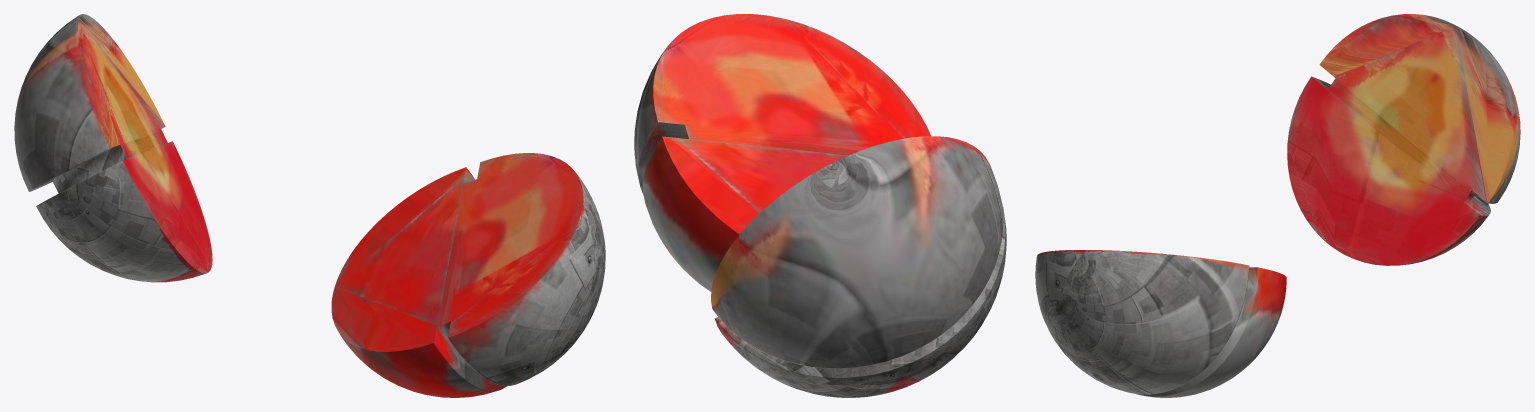
Rendered from Drone166_000010.obj.
The picture shows the model from 3 angles, left to right: view 1: azimuth 30°, elevation 25°; view 2: azimuth 150°, elevation 25°; view 3: azimuth 270°, elevation 25°; orthographic projection. The views are drawn at different scales.
Visible parts, largest first — view 1: Sphere.001_Sphere.005, Sphere.000_Sphere.004; view 2: Sphere.000_Sphere.004, Sphere.001_Sphere.005; view 3: Sphere.000_Sphere.004, Sphere.001_Sphere.005.
Boxes of the visible parts, x1,y1,x2,y2 form: Sphere.001_Sphere.005: (331,153,605,397); Sphere.000_Sphere.004: (14,14,212,282); Sphere.000_Sphere.004: (711,136,1006,397); Sphere.001_Sphere.005: (634,14,930,291); Sphere.000_Sphere.004: (1287,14,1520,265); Sphere.001_Sphere.005: (1035,250,1286,397).
Size of the model in its own units: 3.57 by 2.48 by 4.03.
Materials: 4 (4 with a texture image).
